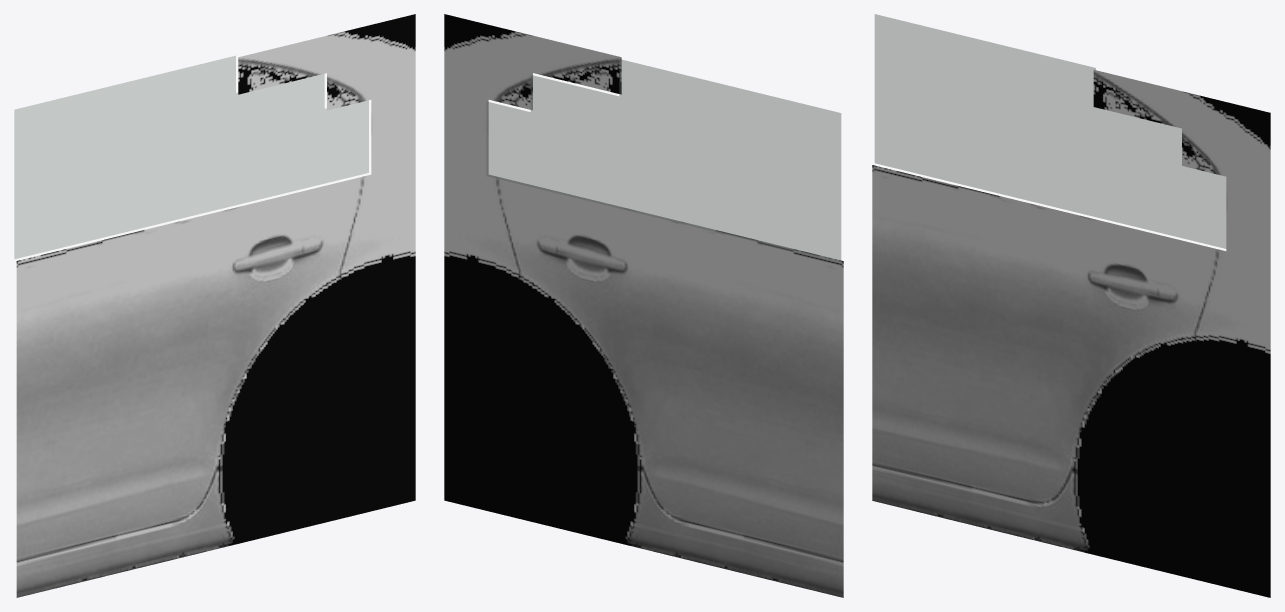
Rendered from door_rear.glb.
The picture shows the model from 3 angles, left to right: view 1: azimuth 30°, elevation 25°; view 2: azimuth 150°, elevation 25°; view 3: azimuth 330°, elevation 25°; orthographic projection.
Parts seen in each view (by area): view 1: Paint, Glass; view 2: Paint, Glass; view 3: Paint, Glass.
Boxes of the visible parts, x1,y1,x2,y2 form: Paint: [16, 14, 415, 597]; Glass: [14, 55, 368, 258]; Paint: [444, 14, 843, 597]; Glass: [486, 59, 841, 262]; Paint: [872, 70, 1270, 597]; Glass: [874, 14, 1226, 248].
Bounding box in the file's own units: 0.7887 × 0.9186 × 0.008.
2 materials, 1 textured.
